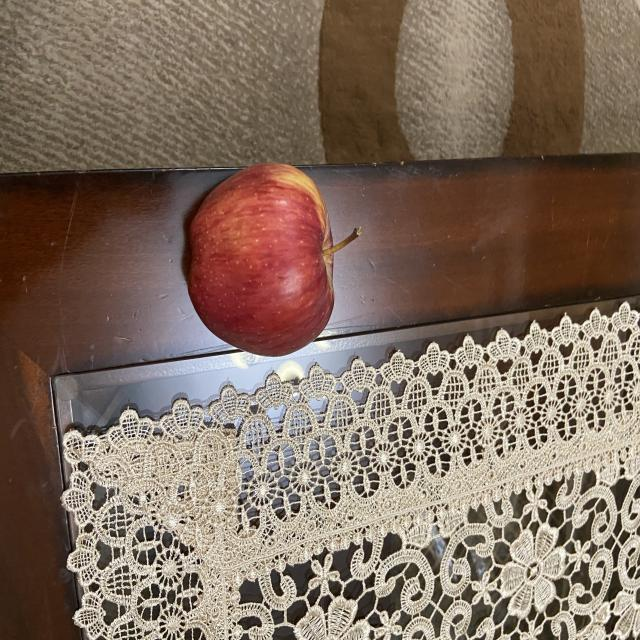apple: (182, 156, 364, 358)
